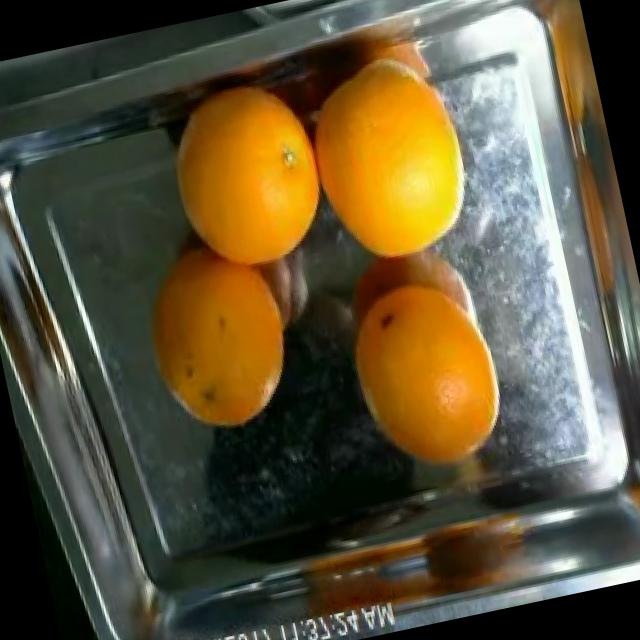Fruit: (320, 260, 517, 508), (118, 220, 318, 460), (186, 402, 347, 578)
